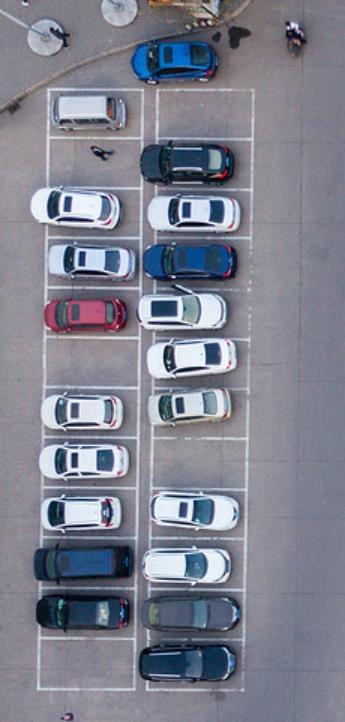car: (138, 138, 236, 188), (134, 282, 228, 332), (30, 544, 136, 587), (136, 593, 244, 635), (139, 641, 241, 685), (27, 186, 125, 231), (35, 591, 134, 635), (146, 192, 244, 236), (143, 336, 240, 380), (32, 439, 131, 482), (140, 544, 234, 589), (131, 38, 219, 85), (36, 389, 127, 434), (46, 239, 139, 283), (140, 240, 238, 281), (149, 490, 241, 533), (39, 492, 125, 536), (41, 294, 128, 337), (148, 385, 235, 428), (48, 92, 127, 133)
